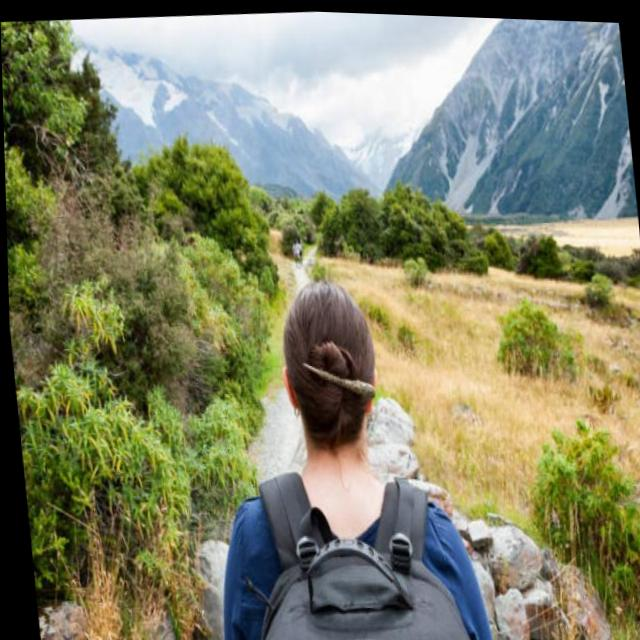no helmet: (269, 258, 401, 514)
